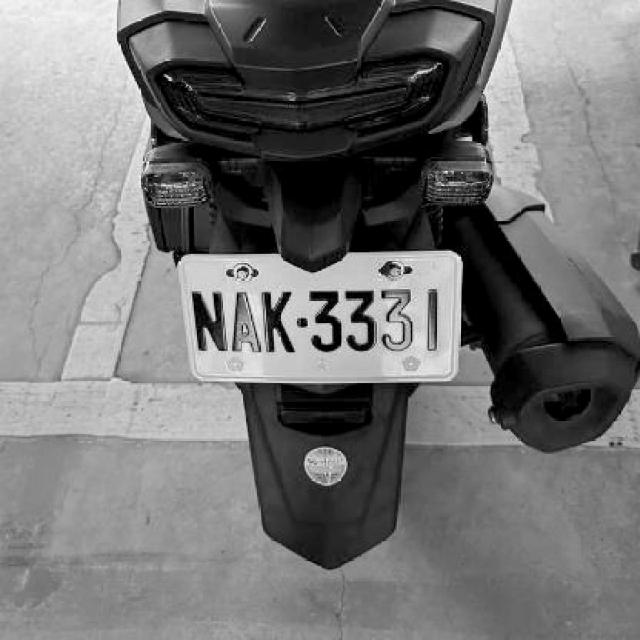-: (295, 314, 308, 326)
1: (425, 285, 437, 352)
3: (381, 286, 417, 356), (308, 286, 343, 356), (342, 285, 378, 352)
A: (231, 289, 261, 351)
K: (262, 286, 300, 357)
N: (191, 288, 229, 355)
